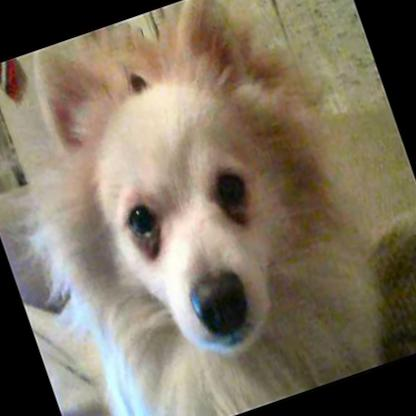Pomeranian: (0, 0, 394, 416)
